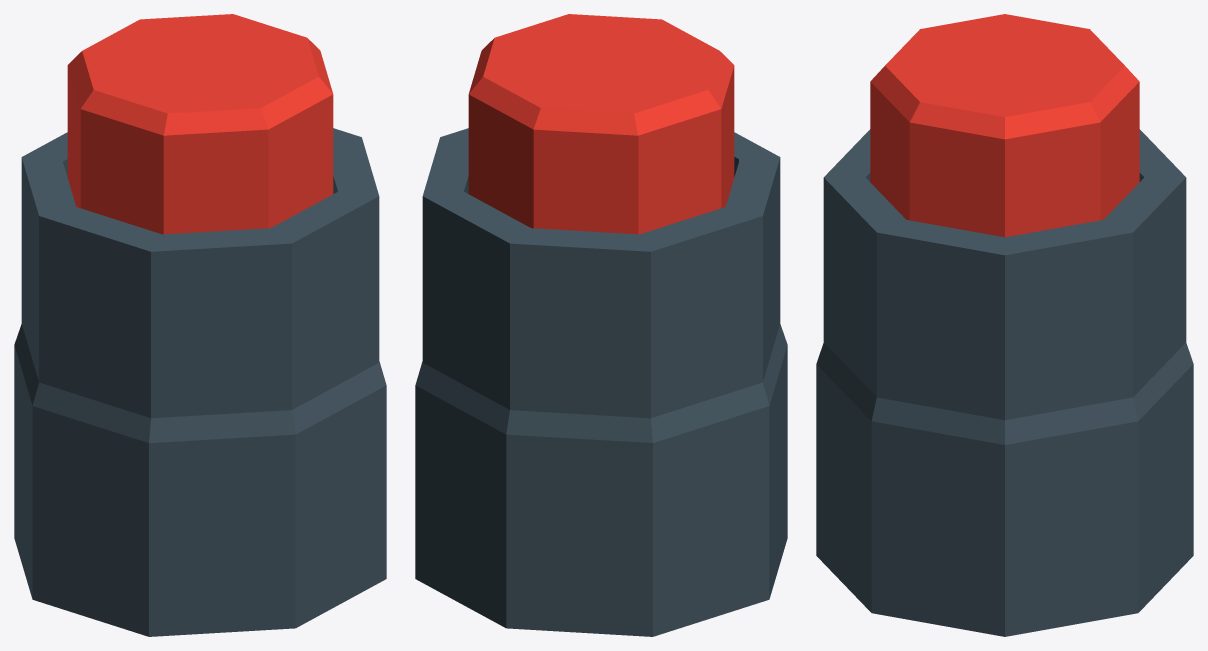
Rendered from Button.glb.
3 views of the same model, side by side, from view 1: azimuth 30°, elevation 25°; view 2: azimuth 150°, elevation 25°; view 3: azimuth 270°, elevation 25° (orthographic).
Parts seen in each view (by area): view 1: Base, Button; view 2: Base, Button; view 3: Base, Button.
Part boxes in pixels (x1,y1,x2,y2): Base: (14, 128, 386, 636); Button: (67, 14, 333, 234); Base: (415, 128, 787, 636); Button: (468, 14, 738, 234); Base: (816, 129, 1193, 636); Button: (870, 14, 1139, 237).
Bounding box in the file's own units: 1.55 × 2.18 × 1.52.
